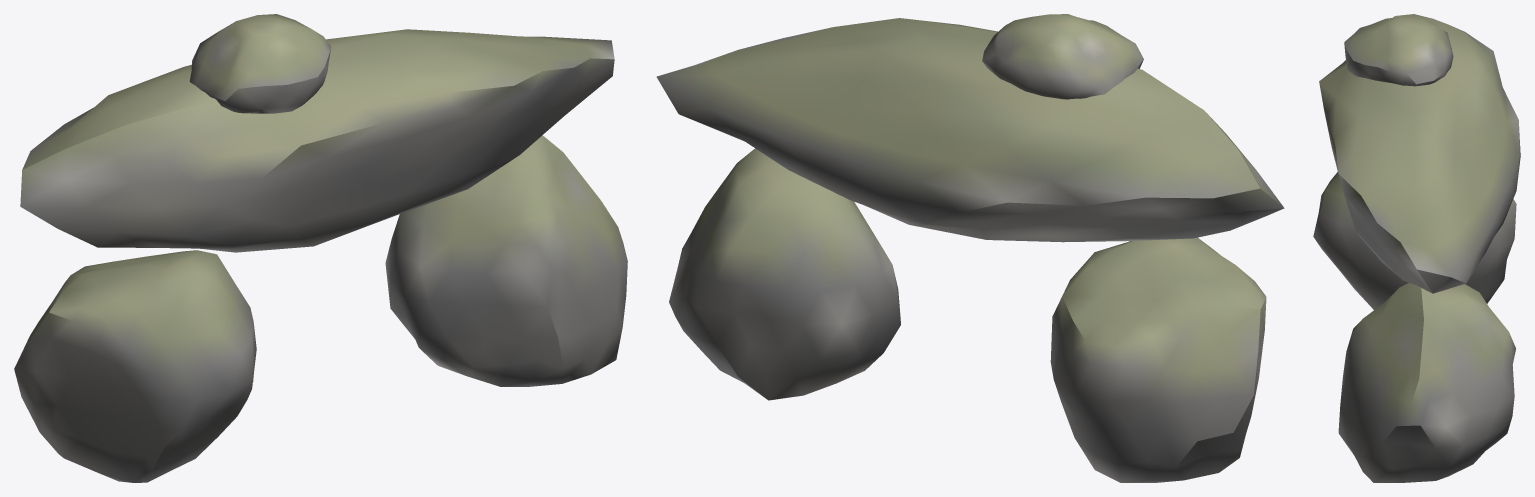
The model's file is Mtn_RockArch.fbx.
The picture shows the model from 3 angles, left to right: view 1: azimuth 30°, elevation 25°; view 2: azimuth 150°, elevation 25°; view 3: azimuth 270°, elevation 25°; orthographic projection. The views are drawn at different scales.
Parts seen in each view (by area): view 1: Mtn_RockArch; view 2: Mtn_RockArch; view 3: Mtn_RockArch.
Part boxes in pixels (box(x1,y1,x2,y2)): Mtn_RockArch: box(14, 14, 627, 482); Mtn_RockArch: box(656, 14, 1284, 482); Mtn_RockArch: box(1313, 14, 1520, 482).
Bounding box in the file's own units: 17.95 × 11.7 × 6.46.
